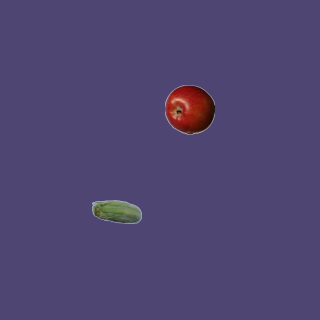Apple Braeburn: (164, 84, 214, 134)
Corn Husk: (91, 188, 141, 238)
